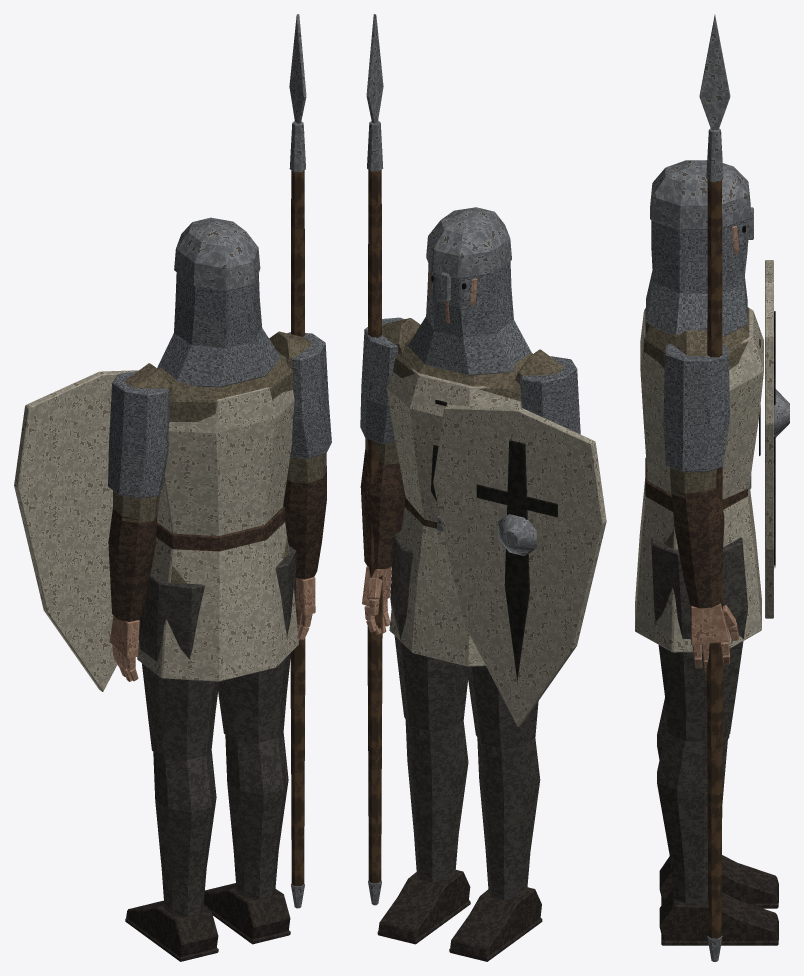
The model's file is wlocznik.glb.
The picture shows the model from 3 angles, left to right: view 1: azimuth 30°, elevation 25°; view 2: azimuth 150°, elevation 25°; view 3: azimuth 270°, elevation 25°; orthographic projection. The views are drawn at different scales.
Visible parts, largest first — view 1: tarcza, tors, miednica, glowa, udo_l, ramie_l, golen_l, golen_p, bron, ramie_p, udo_p, przedramie_l (+5 smaller); view 2: tarcza, glowa, tors, bron, golen_l, golen_p, miednica, udo_p, ramie_p, stopa_l, stopa_p, ramie_l (+3 smaller); view 3: glowa, bron, tors, ramie_p, udo_p, miednica, golen_p, przedramie_p, stopa_p, tarcza, stopa_l, dlon_p.
Boxes of the visible parts, bbox=[...] form: tarcza: bbox=[14, 370, 138, 691]; tors: bbox=[157, 351, 294, 535]; miednica: bbox=[137, 506, 298, 681]; glowa: bbox=[157, 217, 280, 387]; udo_l: bbox=[139, 570, 219, 761]; ramie_l: bbox=[108, 363, 173, 523]; golen_l: bbox=[153, 749, 216, 916]; golen_p: bbox=[225, 731, 288, 899]; bron: bbox=[289, 14, 306, 908]; ramie_p: bbox=[269, 331, 331, 483]; udo_p: bbox=[218, 545, 296, 743]; przedramie_l: bbox=[108, 507, 157, 621]; tarcza: bbox=[433, 405, 606, 726]; glowa: bbox=[408, 207, 531, 375]; tors: bbox=[386, 337, 532, 521]; bron: bbox=[366, 14, 383, 905]; golen_l: bbox=[477, 737, 540, 900]; golen_p: bbox=[405, 720, 468, 883]; miednica: bbox=[389, 494, 485, 666]; udo_p: bbox=[390, 531, 467, 737]; ramie_p: bbox=[360, 317, 420, 464]; stopa_l: bbox=[449, 887, 542, 961]; stopa_p: bbox=[377, 870, 470, 944]; ramie_l: bbox=[515, 349, 580, 434]; glowa: bbox=[646, 160, 753, 336]; bron: bbox=[699, 14, 730, 961]; tors: bbox=[640, 307, 763, 499]; ramie_p: bbox=[663, 330, 729, 498]; udo_p: bbox=[651, 537, 747, 741]; miednica: bbox=[635, 458, 761, 652]; golen_p: bbox=[657, 725, 728, 904]; przedramie_p: bbox=[672, 487, 724, 608]; stopa_p: bbox=[659, 889, 778, 945]; tarcza: bbox=[765, 260, 789, 618]; stopa_l: bbox=[659, 855, 778, 908]; dlon_p: bbox=[691, 603, 739, 672].
Size of the model in its own units: 0.7416 by 2.3 by 0.3408.
Materials: 11 (11 with a texture image).
